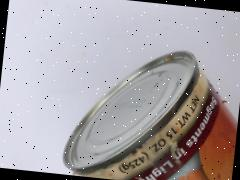metal: (33, 14, 240, 180)
